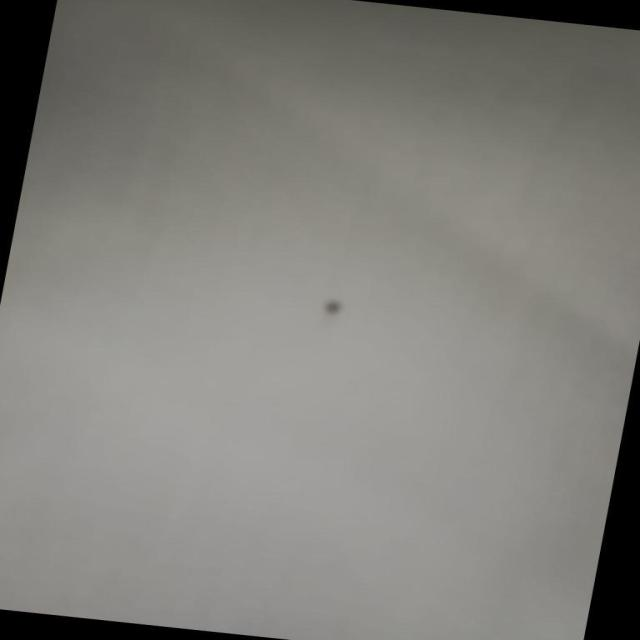stain: (300, 286, 363, 330)
